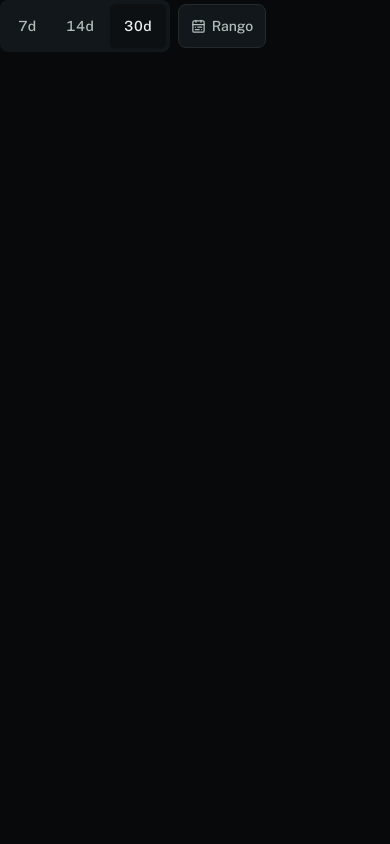
Scenario: PeriodPicker — el panel flotante › cierra con ESC, no sólo con clic fuera
The image size is (390, 844).
Click the button titled "Rango de fechas personalizado": (222, 26) [178,4,266,48]
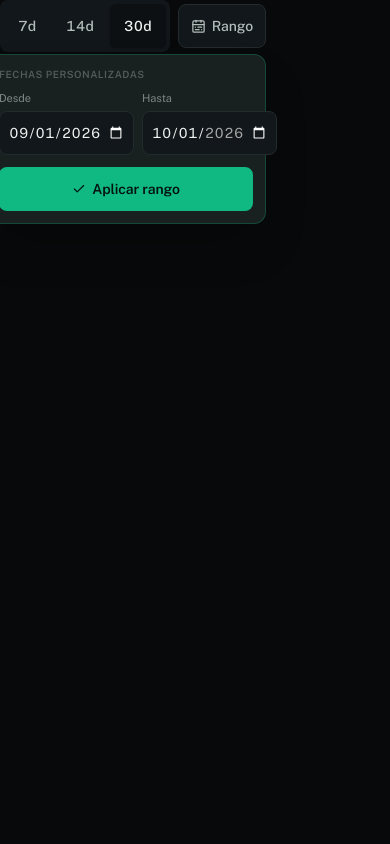
Press Escape
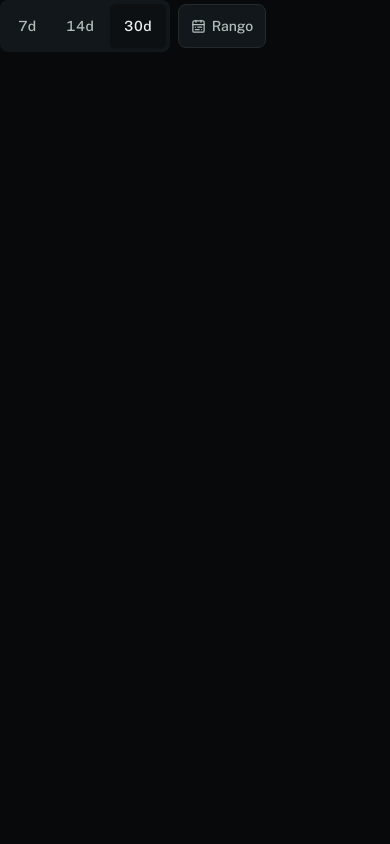
Now the dialog is gone
